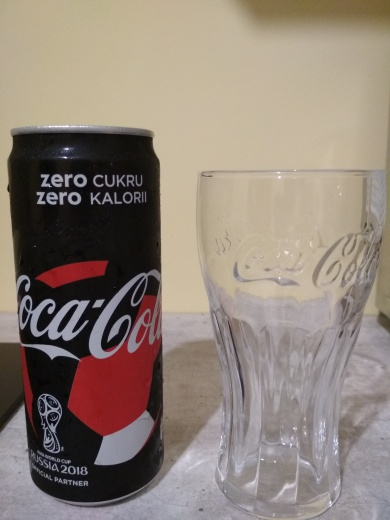colazero: (1, 107, 175, 507)
